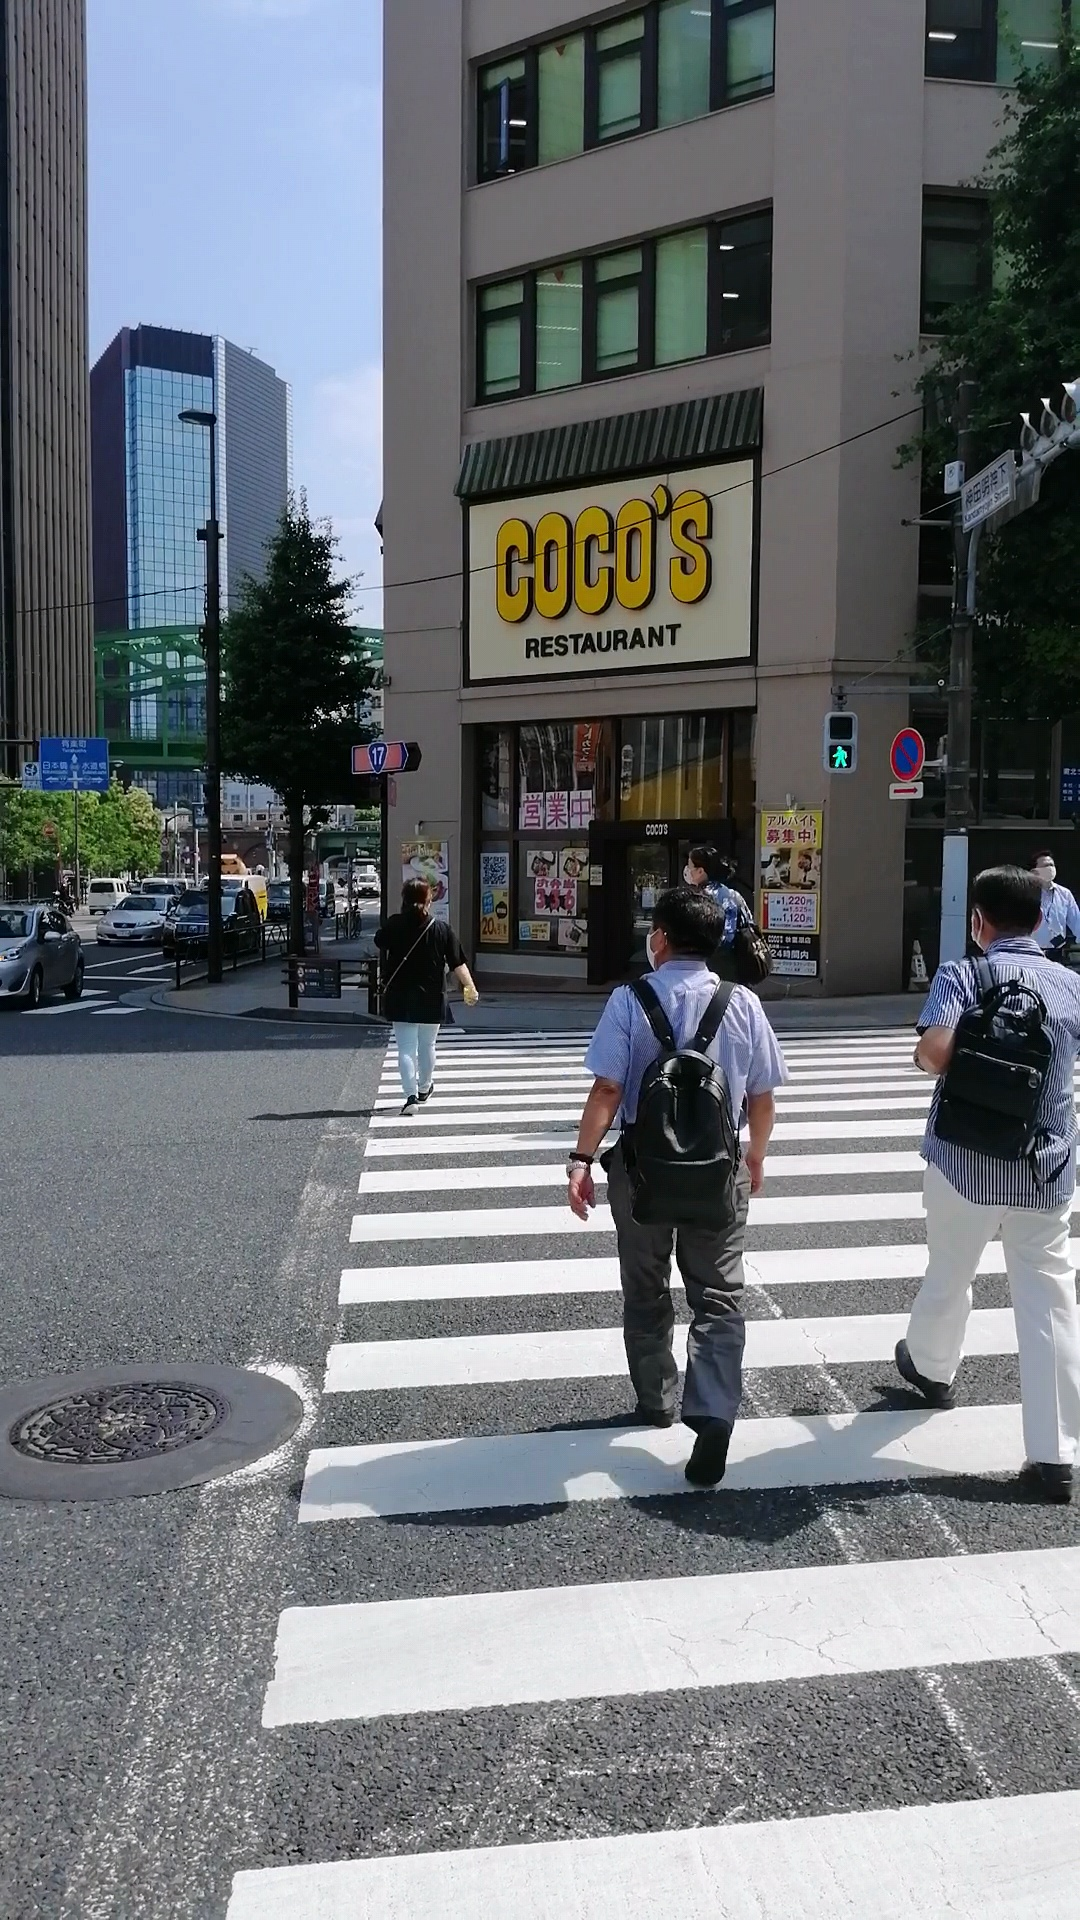green: (823, 709, 858, 775)
